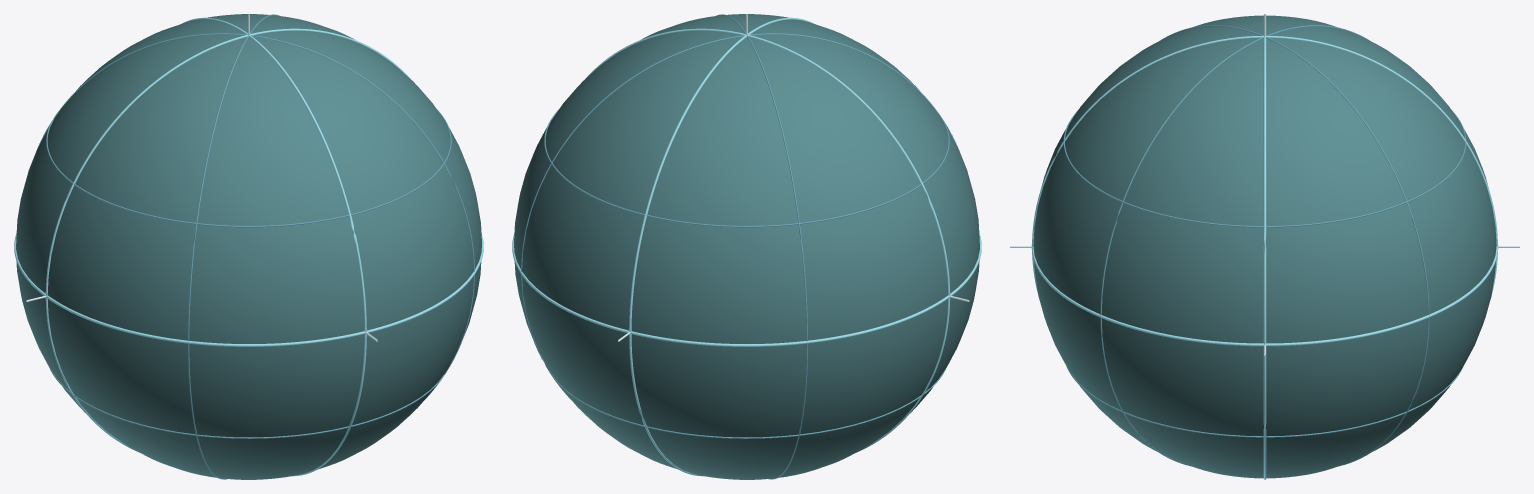
The model's file is bloch-sphere.glb.
3 renders of one model, left to right at view 1: azimuth 30°, elevation 25°; view 2: azimuth 150°, elevation 25°; view 3: azimuth 270°, elevation 25°, orthographic.
Visible parts, largest first — view 1: Unit Bloch shell radius 1, Equator XY, Meridian 0.000000, Meridian 1.570796, Meridian 2.356194, Latitude 0.5, Meridian 0.785398, Latitude -0.5; view 2: Unit Bloch shell radius 1, Equator XY, Meridian 0.000000, Meridian 1.570796, Meridian 0.785398, Latitude 0.5, Meridian 2.356194, Latitude -0.5; view 3: Unit Bloch shell radius 1, Equator XY, Meridian 1.570796, Meridian 0.000000, Meridian 0.785398, Meridian 2.356194, Latitude 0.5, Latitude -0.5.
Part boxes in pixels (box(x1,y1,x2,y2)): Unit Bloch shell radius 1: box(16, 14, 481, 479); Equator XY: box(14, 233, 483, 346); Meridian 0.000000: box(45, 28, 410, 452); Meridian 1.570796: box(181, 17, 366, 476); Meridian 2.356194: box(36, 33, 474, 399); Latitude 0.5: box(46, 109, 451, 227); Meridian 0.785398: box(188, 14, 279, 479); Latitude -0.5: box(49, 367, 444, 438); Unit Bloch shell radius 1: box(514, 14, 979, 479); Equator XY: box(512, 233, 981, 346); Meridian 0.000000: box(585, 28, 950, 452); Meridian 1.570796: box(629, 17, 814, 476); Meridian 0.785398: box(521, 33, 959, 399); Latitude 0.5: box(544, 109, 949, 227); Meridian 2.356194: box(716, 14, 807, 479); Latitude -0.5: box(551, 367, 946, 438); Unit Bloch shell radius 1: box(1033, 15, 1496, 478); Equator XY: box(1031, 245, 1498, 346); Meridian 1.570796: box(1032, 35, 1497, 296); Meridian 0.000000: box(1263, 14, 1266, 479); Meridian 0.785398: box(1161, 25, 1429, 466); Meridian 2.356194: box(1100, 25, 1368, 466); Latitude 0.5: box(1063, 110, 1466, 227); Latitude -0.5: box(1066, 366, 1463, 437).
Size of the model in its own units: 2.2 by 2.2 by 2.2.
